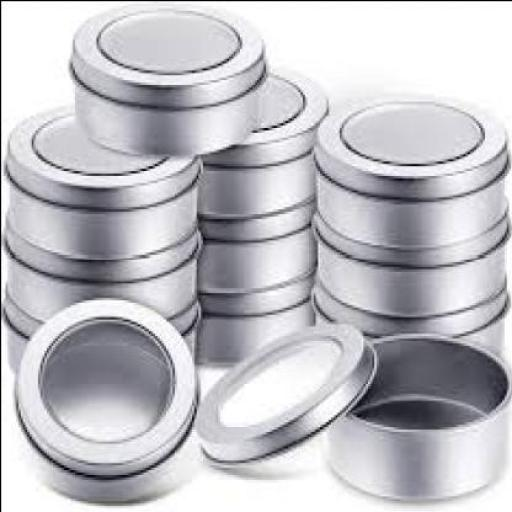metal: (14, 292, 196, 474), (310, 96, 508, 261), (323, 330, 508, 496), (4, 103, 198, 249), (64, 7, 262, 148), (191, 321, 373, 464), (308, 206, 508, 334), (195, 64, 326, 230), (1, 230, 195, 326), (15, 407, 191, 503), (4, 302, 193, 388), (312, 307, 502, 390), (195, 213, 312, 306), (193, 304, 313, 363)
